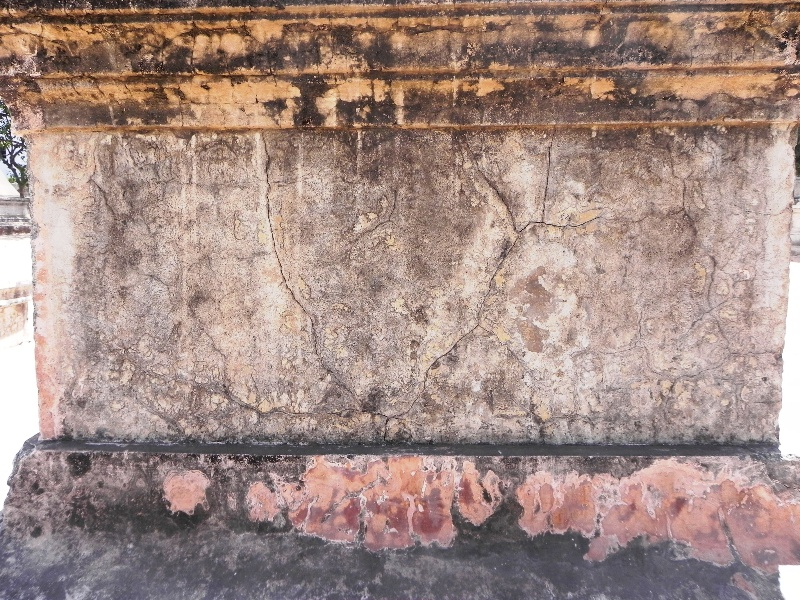Crack: (264, 178, 315, 334), (476, 236, 522, 321)
